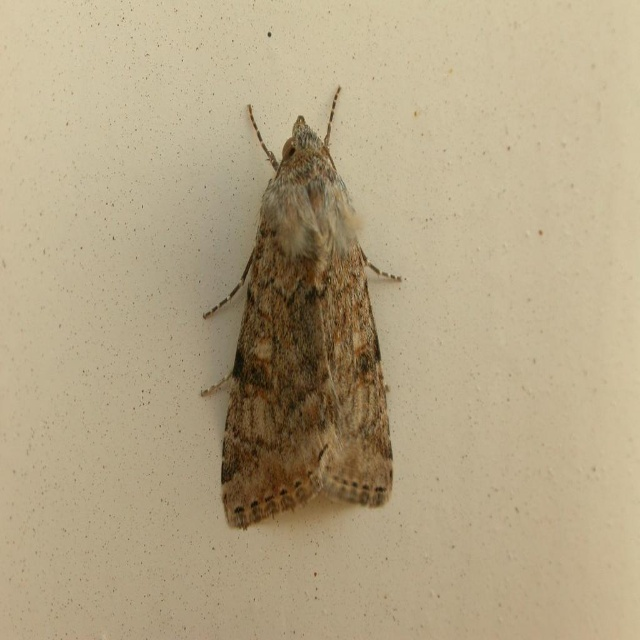Moths and butterflies: (202, 79, 402, 533)
